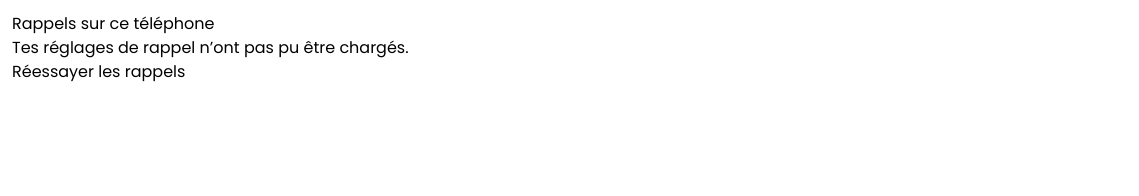
Test: une panne de chargement conserve les rappels visibles et permet de réessayer
Check: the text "Tes réglages de rappel n’ont pas pu être chargés." is shown, box [12, 36, 409, 59]
Click the button "Réessayer les rappels".
click(99, 72)  # box [12, 60, 185, 84]
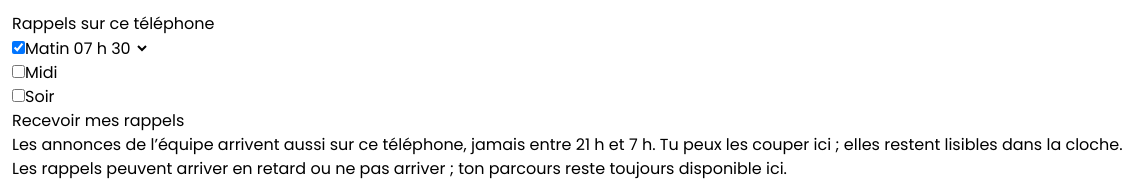
Check: the checkbox labelled "Matin" is shown, box [12, 41, 25, 54]
